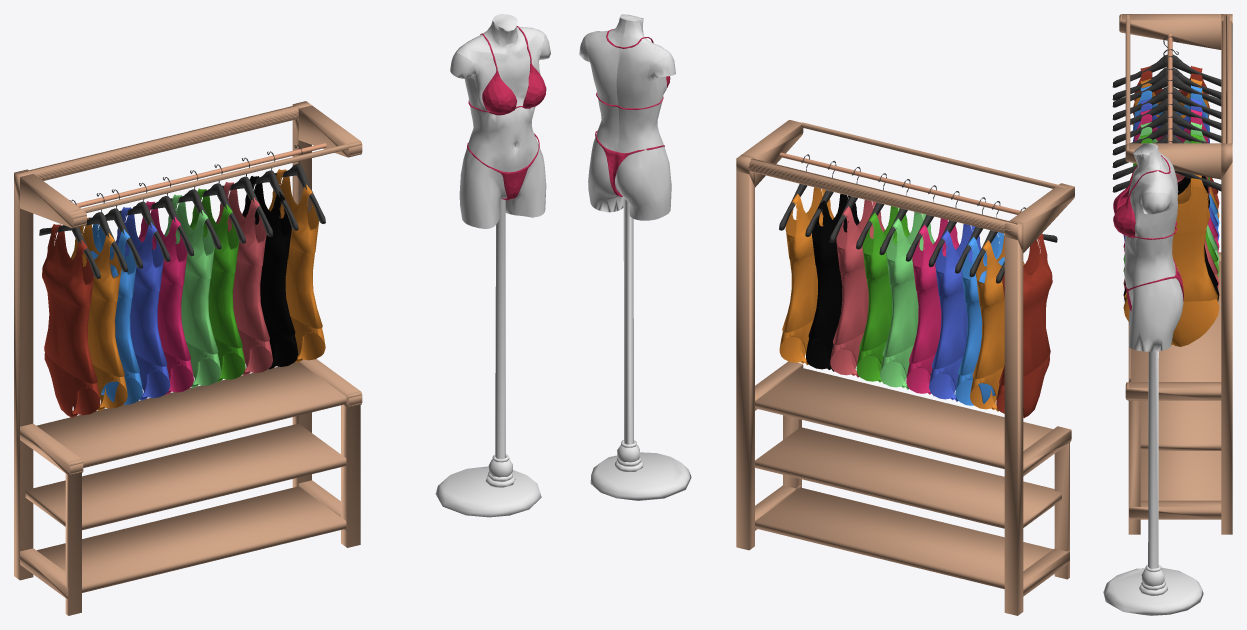
File: Swimsuit_V02.fbx
The picture shows the model from 3 angles, left to right: view 1: azimuth 30°, elevation 25°; view 2: azimuth 150°, elevation 25°; view 3: azimuth 270°, elevation 25°; orthographic projection. The views are drawn at different scales.
Visible parts, largest first — view 1: Pattern2D_5081.001, Swimwear_manneqiun.002, a_fuku_07.011, a_fuku_07.002, a_fuku_07.004, a_fuku_07.006, a_fuku_07.008, a_fuku_07.010, a_fuku_07.003, a_fuku_07.005, a_fuku_07.007, a_fuku_07.009 (+2 smaller); view 2: Pattern2D_5081.001, Swimwear_manneqiun.002, a_fuku_07.002, a_fuku_07.004, a_fuku_07.006, a_fuku_07.008, a_fuku_07.011, a_fuku_07.003, a_fuku_07.005, a_fuku_07.007, a_fuku_07.010, a_fuku_07.009 (+2 smaller); view 3: Pattern2D_5081.001, Swimwear_manneqiun.002, a_fuku_07.002, sub04.004, Final.082, Final.084, Final.051, Final.068, Final.044, Final.083, a_fuku_07.007, Final.043 (+12 smaller).
Part boxes in pixels (box(x1,y1,x2,y2)): Pattern2D_5081.001: box(14, 101, 362, 615); Swimwear_manneqiun.002: box(435, 14, 550, 517); a_fuku_07.011: box(42, 224, 100, 417); a_fuku_07.002: box(268, 169, 325, 362); a_fuku_07.004: box(216, 182, 272, 375); a_fuku_07.006: box(164, 194, 221, 388); a_fuku_07.008: box(116, 207, 170, 400); a_fuku_07.010: box(71, 218, 127, 410); a_fuku_07.003: box(242, 176, 298, 369); a_fuku_07.005: box(190, 188, 245, 382); a_fuku_07.007: box(138, 201, 193, 394); a_fuku_07.009: box(90, 223, 142, 404); Pattern2D_5081.001: box(736, 120, 1074, 615); Swimwear_manneqiun.002: box(579, 14, 691, 500); a_fuku_07.002: box(779, 187, 834, 365); a_fuku_07.004: box(830, 199, 884, 377); a_fuku_07.006: box(880, 211, 934, 389); a_fuku_07.008: box(929, 224, 981, 401); a_fuku_07.011: box(996, 233, 1052, 417); a_fuku_07.003: box(806, 193, 859, 371); a_fuku_07.005: box(856, 206, 909, 383); a_fuku_07.007: box(906, 218, 959, 395); a_fuku_07.010: box(970, 234, 1024, 411); a_fuku_07.009: box(955, 232, 1004, 405); Pattern2D_5081.001: box(1119, 14, 1232, 534); Swimwear_manneqiun.002: box(1103, 143, 1203, 615); a_fuku_07.002: box(1123, 174, 1219, 346); sub04.004: box(1113, 155, 1183, 311); Final.082: box(1112, 56, 1221, 107); Final.084: box(1112, 36, 1221, 87); Final.051: box(1112, 80, 1221, 131); Final.068: box(1112, 68, 1221, 120); Final.044: box(1112, 92, 1221, 143); Final.083: box(1112, 49, 1221, 100); a_fuku_07.007: box(1123, 109, 1219, 253); Final.043: box(1112, 104, 1208, 155).
Bounding box in the file's own units: 391 × 364 × 92.97.
